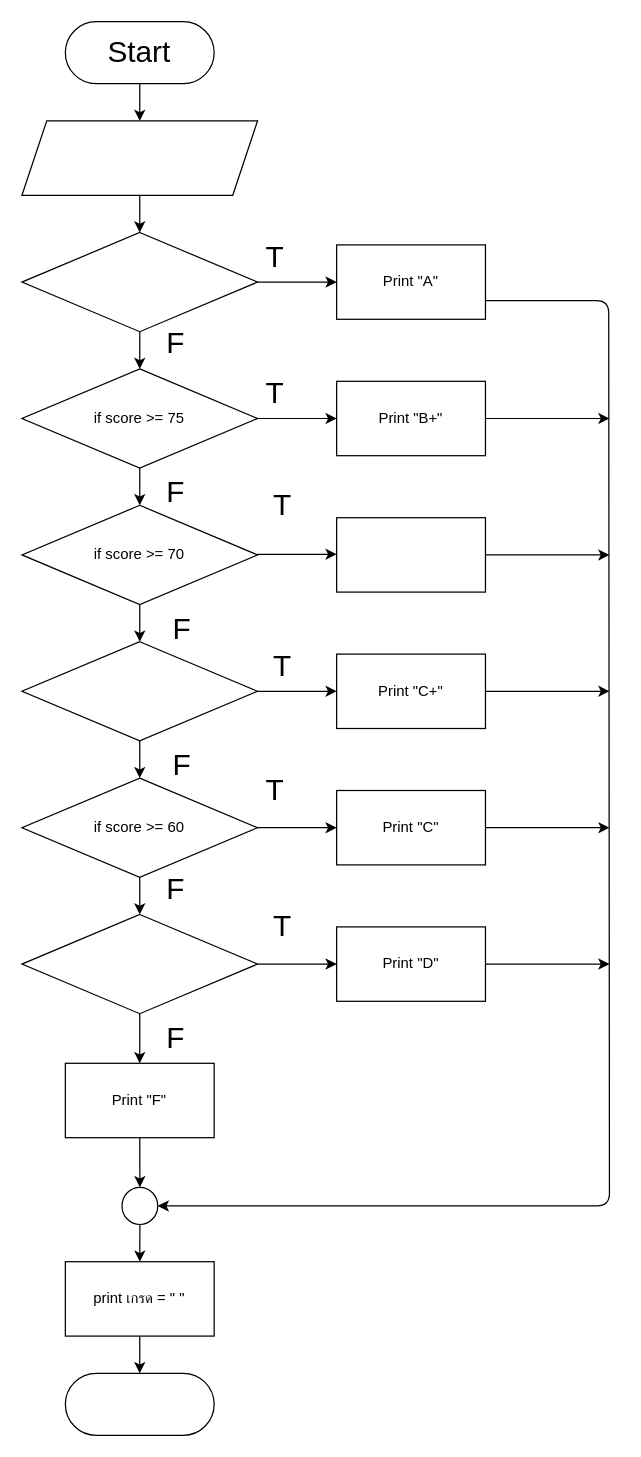
Image size: 641x1457. Some labels were removed from this diagram. The centre of each missing label's shape, as x and y in pixels:
END: point 139,1403
if score >= 50: point 139,963
if score >= 65: point 139,690
if score >= 80: point 139,281
Input Score: point 139,157
Print "B": point 410,554
